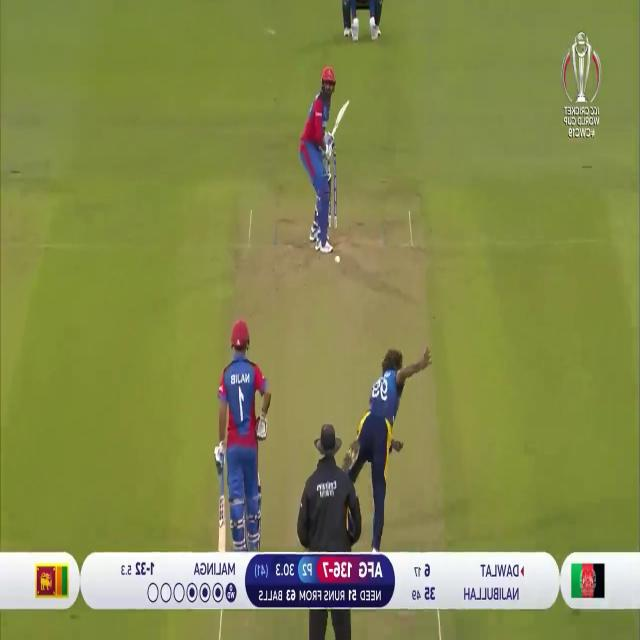ball: (334, 253, 340, 267)
